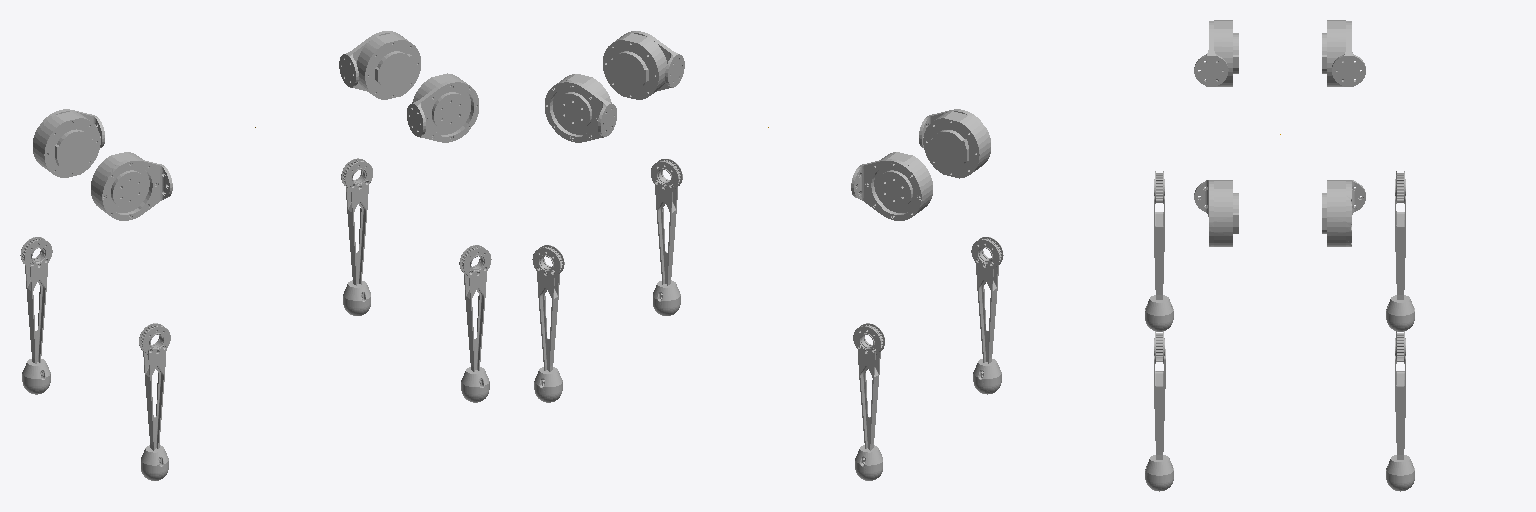
--- What the picture shows (computed from the rendered views, not written in the file) ---
The picture shows the robot from 3 angles, left to right: view 1: azimuth 30°, elevation 25°; view 2: azimuth 150°, elevation 25°; view 3: azimuth 270°, elevation 25°; orthographic projection.
Model dog with 19 links and 18 joints (12 revolute, 6 fixed), rooted at base, posed every joint at zero.
Visible links, largest first — view 1: FL_hip, RR_hip, FR_hip, RL_hip, RR_calf, RL_calf, FR_calf, FL_calf; view 2: RL_hip, FR_hip, RR_hip, FL_hip, FL_calf, RL_calf, RR_calf, FR_calf; view 3: FR_hip, FL_hip, RL_hip, RR_hip, FR_calf, RL_calf, RR_calf, FL_calf.
Boxes of the visible links, x1,y1,x2,y2 form: FL_hip: (339, 31, 420, 99); RR_hip: (91, 152, 172, 220); FR_hip: (407, 73, 478, 142); RL_hip: (33, 109, 104, 177); RR_calf: (139, 323, 170, 480); RL_calf: (20, 237, 52, 394); FR_calf: (459, 245, 491, 402); FL_calf: (341, 158, 372, 315); RL_hip: (851, 152, 932, 220); FR_hip: (603, 31, 684, 99); RR_hip: (919, 109, 990, 178); FL_hip: (545, 74, 616, 142); FL_calf: (532, 245, 564, 402); RL_calf: (853, 323, 884, 480); RR_calf: (971, 237, 1003, 394); FR_calf: (651, 159, 682, 315); FR_hip: (1194, 180, 1238, 246); FL_hip: (1322, 180, 1365, 246); RL_hip: (1322, 20, 1365, 86); RR_hip: (1194, 20, 1238, 86); FR_calf: (1145, 331, 1173, 491); RL_calf: (1386, 171, 1414, 331); RR_calf: (1145, 171, 1173, 331); FL_calf: (1386, 331, 1414, 491).
Size in the robot's own frame: 0.6457 by 0.3926 by 0.4922 metres.
8 mesh visuals loaded from 13 distinct referenced files (8 Collada DAE); not drawn: 5 (reference not matched to a file when rendering).

robot.urdf — dog:
<?xml version="1.0" encoding="utf-8"?>

<robot name="dog"> 

	<material name="black">
		<color rgba="0.0 0.0 0.0 1.0"/>
	</material>
	<material name="blue">
		<color rgba="0.0 0.0 0.8 1.0"/>
	</material>
	<material name="green">
		<color rgba="0.0 0.8 0.0 1.0"/>
	</material>
	<material name="grey">
		<color rgba="0.2 0.2 0.2 1.0"/>
	</material>
	<material name="silver">
		<color rgba="0.913725490196 0.913725490196 0.847058823529 1.0"/>
	</material>
	<material name="orange">
		<color rgba="1.0 0.423529411765 0.0392156862745 1.0"/>
	</material>
	<material name="brown">
		<color rgba="0.870588235294 0.811764705882 0.764705882353 1.0"/>
	</material>
	<material name="red">
		<color rgba="0.8 0.0 0.0 1.0"/>
	</material>
	<material name="white">
		<color rgba="1.0 1.0 1.0 1.0"/>
	</material>

	<!-- =================================================================================== -->
	<!-- ros_control plugin -->
	<!-- =================================================================================== -->
	<gazebo>
		<plugin filename="libgazebo_ros_control.so" name="gazebo_ros_control">
		<robotNamespace>/dog</robotNamespace>
		<robotSimType>gazebo_ros_control/DefaultRobotHWSim</robotSimType>
		</plugin>
	</gazebo>

	<!-- =================================================================================== -->
	<!-- Show the trajectory of trunk center. -->
	<!-- =================================================================================== -->
	<gazebo>
		<plugin filename="libLinkPlot3DPlugin.so" name="3dplotTrunk">
		<frequency>10</frequency>
		<plot>
			<link>base</link>
			<pose>0 0 0 0 0 0</pose>
			<material>Gazebo/Yellow</material>
		</plot>
		</plugin>
	</gazebo>

	<!-- =================================================================================== -->
	<gazebo>
		<plugin filename="libgazebo_ros_force.so" name="gazebo_ros_force">
		<bodyName>trunk</bodyName>
		<topicName>/apply_force/trunk</topicName>
		</plugin>
	</gazebo>
	
	<gazebo reference="imu_link">
		<gravity>true</gravity>
		<sensor name="imu_sensor" type="imu">
		<always_on>true</always_on>
		<update_rate>1000</update_rate>
		<visualize>true</visualize>
		<topic>__default_topic__</topic>
		<plugin filename="libgazebo_ros_imu_sensor.so" name="imu_plugin">
			<topicName>trunk_imu</topicName>
			<bodyName>imu_link</bodyName>
			<updateRateHZ>1000.0</updateRateHZ>
			<gaussianNoise>0.0</gaussianNoise>
			<xyzOffset>0 0 0</xyzOffset>
			<rpyOffset>0 0 0</rpyOffset>
			<frameName>imu_link</frameName>
		</plugin>
		<pose>0 0 0 0 0 0</pose>
		</sensor>
	</gazebo>
	
	<!-- =================================================================================== -->
	<!-- Foot contacts. -->
	<!-- =================================================================================== -->
	<gazebo reference="FR_calf">
		<sensor name="FR_foot_contact" type="contact">
		<update_rate>100</update_rate>
		<plugin filename="libunitreeFootContactPlugin.so" name="contactPlugin"/>
		<contact>
			<collision>FR_calf_fixed_joint_lump__FR_foot_collision_1</collision>
		</contact>
		</sensor>
	</gazebo>
	
	<gazebo reference="FL_calf">
		<sensor name="FL_foot_contact" type="contact">
		<update_rate>100</update_rate>
		<plugin filename="libunitreeFootContactPlugin.so" name="contactPlugin"/>
		<contact>
			<collision>FL_calf_fixed_joint_lump__FL_foot_collision_1</collision>
		</contact>
		</sensor>
	</gazebo>
	
	<gazebo reference="RR_calf">
		<sensor name="RR_foot_contact" type="contact">
		<update_rate>100</update_rate>
		<plugin filename="libunitreeFootContactPlugin.so" name="contactPlugin"/>
		<contact>
			<collision>RR_calf_fixed_joint_lump__RR_foot_collision_1</collision>
		</contact>
		</sensor>
	</gazebo>
	
	<gazebo reference="RL_calf">
		<sensor name="RL_foot_contact" type="contact">
		<update_rate>100</update_rate>
		<plugin filename="libunitreeFootContactPlugin.so" name="contactPlugin"/>
		<contact>
			<collision>RL_calf_fixed_joint_lump__RL_foot_collision_1</collision>
		</contact>
		</sensor>
	</gazebo>
	
	<!-- =================================================================================== -->
	<!-- Visualization of Foot contacts. -->
	<!-- =================================================================================== -->
	<gazebo reference="FR_foot">
		<visual>
		<plugin filename="libunitreeDrawForcePlugin.so" name="drawForcePlugin">
			<topicName>FR_foot_contact</topicName>
		</plugin>
		</visual>
	</gazebo>
	
	<gazebo reference="FL_foot">
		<visual>
		<plugin filename="libunitreeDrawForcePlugin.so" name="drawForcePlugin">
			<topicName>FL_foot_contact</topicName>
		</plugin>
		</visual>
	</gazebo>
	
	<gazebo reference="RR_foot">
		<visual>
		<plugin filename="libunitreeDrawForcePlugin.so" name="drawForcePlugin">
			<topicName>RR_foot_contact</topicName>
		</plugin>
		</visual>
	</gazebo>
	
	<gazebo reference="RL_foot">
		<visual>
		<plugin filename="libunitreeDrawForcePlugin.so" name="drawForcePlugin">
			<topicName>RL_foot_contact</topicName>
		</plugin>
		</visual>
	</gazebo>
	
	<!-- =================================================================================== -->
	<gazebo reference="base">
		<material>Gazebo/Green</material>
		<turnGravityOff>false</turnGravityOff>
	</gazebo>
	
	<gazebo reference="trunk">
		<mu1>0.2</mu1>
		<mu2>0.2</mu2>
		<kp value="1000000.0"/>
		<kd value="1.0"/>
	</gazebo>
	
	<gazebo reference="stick_link">
		<mu1>0.2</mu1>
		<mu2>0.2</mu2>
		<material>Gazebo/White</material>
	</gazebo>
	
	<gazebo reference="imu_link">
		<mu1>0.2</mu1>
		<mu2>0.2</mu2>
		<material>Gazebo/Red</material>
	</gazebo>
	
	<!-- FL leg -->
	<gazebo reference="FL_hip">
		<mu1>0.2</mu1>
		<mu2>0.2</mu2>
		<material>Gazebo/DarkGrey</material>
	</gazebo>
	
	<gazebo reference="FL_thigh">
		<mu1>0.2</mu1>
		<mu2>0.2</mu2>
		<self_collide>1</self_collide>
		<material>Gazebo/DarkGrey</material>
		<kp value="1000000.0"/>
		<kd value="1.0"/>
	</gazebo>
	
	<gazebo reference="FL_calf">
		<mu1>0.2</mu1>
		<mu2>0.2</mu2>
		<self_collide>1</self_collide>
	</gazebo>
	
	<gazebo reference="FL_foot">
		<mu1>1</mu1>
		<mu2>1</mu2>
		<self_collide>1</self_collide>
		<material>Gazebo/DarkGrey</material>
		<kp value="1000000.0"/>
		<kd value="1.0"/>
	</gazebo>
	
	<!-- FR leg -->
	<gazebo reference="FR_hip">
		<mu1>0.2</mu1>
		<mu2>0.2</mu2>
		<material>Gazebo/DarkGrey</material>
	</gazebo>
	
	<gazebo reference="FR_thigh">
		<mu1>0.2</mu1>
		<mu2>0.2</mu2>
		<self_collide>1</self_collide>
		<material>Gazebo/DarkGrey</material>
		<kp value="1000000.0"/>
		<kd value="1.0"/>
	</gazebo>
	
	<gazebo reference="FR_calf">
		<mu1>0.2</mu1>
		<mu2>0.2</mu2>
		<self_collide>1</self_collide>
	</gazebo>
	
	<gazebo reference="FR_foot">
		<mu1>1</mu1>
		<mu2>1</mu2>
		<self_collide>1</self_collide>
		<material>Gazebo/DarkGrey</material>
		<kp value="1000000.0"/>
		<kd value="1.0"/>
	</gazebo>
	
	<!-- RL leg -->
	<gazebo reference="RL_hip">
		<mu1>0.2</mu1>
		<mu2>0.2</mu2>
		<material>Gazebo/DarkGrey</material>
	</gazebo>
	
	<gazebo reference="RL_thigh">
		<mu1>0.2</mu1>
		<mu2>0.2</mu2>
		<self_collide>1</self_collide>
		<material>Gazebo/DarkGrey</material>
		<kp value="1000000.0"/>
		<kd value="1.0"/>
	</gazebo>
	
	<gazebo reference="RL_calf">
		<mu1>0.2</mu1>
		<mu2>0.2</mu2>
		<self_collide>1</self_collide>
	</gazebo>
	
	<gazebo reference="RL_foot">
		<mu1>1</mu1>
		<mu2>1</mu2>
		<self_collide>1</self_collide>
		<material>Gazebo/DarkGrey</material>
		<kp value="1000000.0"/>
		<kd value="1.0"/>
	</gazebo>
	
	<!-- RR leg -->
	<gazebo reference="RR_hip">
		<mu1>0.2</mu1>
		<mu2>0.2</mu2>
		<material>Gazebo/DarkGrey</material>
	</gazebo>
	
	<gazebo reference="RR_thigh">
		<mu1>0.2</mu1>
		<mu2>0.2</mu2>
		<self_collide>1</self_collide>
		<material>Gazebo/DarkGrey</material>
		<kp value="1000000.0"/>
		<kd value="1.0"/>
	</gazebo>
	
	<gazebo reference="RR_calf">
		<mu1>0.2</mu1>
		<mu2>0.2</mu2>
		<self_collide>1</self_collide>
	</gazebo>
	
	<gazebo reference="RR_foot">
		<mu1>1</mu1>
		<mu2>1</mu2>
		<self_collide>1</self_collide>
		<material>Gazebo/DarkGrey</material>
		<kp value="1000000.0"/>
		<kd value="1.0"/>
	</gazebo>
	<!-- =================================================================================== -->

	<!-- =================================================================================== -->
	<link 
		name="base">
		<visual>
			<origin 
				rpy="0 0 0" 
				xyz="0 0 0"/>
			<geometry>
				<box 
				size="0.001 0.001 0.001"/>
			</geometry>
		</visual>
	</link>
	
	<joint 
		name="floating_base" 
		type="fixed">
		<origin 
			rpy="0 0 0" 
			xyz="0 0 0"/>
		<parent 
			link="base"/>
		<child 
			link="trunk"/>
	</joint>
	
	<link
		name="trunk">
		<inertial>
			<origin
				xyz="0 0 0"
				rpy="0 0 0" />
			<mass
				value="5.369" />
			<inertia
				ixx="0.014018"
				ixy="-9.8764E-10"
				ixz="2.189E-06"
				iyy="0.022916"
				iyz="-1.0695E-05"
				izz="0.031536" />
		</inertial>
		<visual>
			<origin
				xyz="0 0 0"
				rpy="0 0 0" />
			<geometry>
				<mesh
				filename="package://dog/meshes/trunk.dae" />
			</geometry>
			<material
				name="">
				<color
				rgba="0.75294 0.75294 0.75294 1" />
			</material>
		</visual>
		<collision>
			<origin
				xyz="0 0 0"
				rpy="0 0 0" />
			<geometry>
				<box size="0.425 0.3 0.125"/>
			</geometry>
		</collision>
	</link>
	<!-- =================================================================================== -->
	
	<!-- =================================================================================== -->
	<joint name="imu_joint" type="fixed">
		<parent link="trunk"/>
		<child link="imu_link"/>
		<origin rpy="0 0 0" xyz="0 0 0"/>
	</joint>
	
	<link name="imu_link">
		<inertial>
			<mass value="0.001"/>
			<origin rpy="0 0 0" xyz="0 0 0"/>
			<inertia ixx="0.0001" ixy="0" ixz="0" iyy="0.0001" iyz="0" izz="0.0001"/>
		</inertial>
		<visual>
			<origin rpy="0 0 0" xyz="0 0 0"/>
			<geometry>
				<box size="0.001 0.001 0.001"/>
			</geometry>
			<material name="red"/>
		</visual>
		<collision>
			<origin rpy="0 0 0" xyz="0 0 0"/>
			<geometry>
				<box size=".001 .001 .001"/>
			</geometry>
		</collision>
	</link>

	<!-- =================================================================================== -->
	<!-- FL leg -->
	<!-- =================================================================================== -->
	<joint
		name="FL_hip_joint"
		type="revolute">
		<origin
			xyz="0.27491 0.099829 0.0023126"
			rpy="0 0 0" />
		<parent
			link="trunk" />
		<child
			link="FL_hip" />
		<axis
			xyz="1 0 0" />
		<limit
			lower="-3.1416"
			upper="3.1416"
			effort="33.5"
			velocity="21" />
		<dynamics
			damping="0.01"
			friction="0.2" />
	</joint>
	
	<link
		name="FL_hip">
		<inertial>
			<origin
        		xyz="-0.00692304963835766 -0.0130799503639591 8.77287418627609E-06"
				rpy="0 0 0" />
			<mass
				value="0.337524542203421" />
			<inertia
				ixx="0.000215254092407494"
				ixy="2.15638092567625E-07"
				ixz="-6.84399658609385E-08"
				iyy="0.000431326436958549"
				iyz="5.16536960133808E-08"
				izz="0.00027557090454781" />
		</inertial>
		<visual>
			<origin
				xyz="0 0 0"
				rpy="0 0 0" />
			<geometry>
				<mesh
				filename="package://dog/meshes/FL_hip.dae" />
			</geometry>
				<material
					name="">
					<color
					rgba="0.752941176470588 0.752941176470588 0.752941176470588 1" />
				</material>
		</visual>
		<collision>
			<origin
				xyz="0 0 0"
				rpy="1.57079632679 0 0" />
			<geometry>
				<cylinder length="0.0437" radius="0.04825"/>
			</geometry>
		</collision>
	</link>
	
	<joint
		name="FL_thigh_joint"
		type="revolute">
		<origin
			xyz="0 0.07555 0"
			rpy="0 0 0" />
		<parent
			link="FL_hip" />
		<child
			link="FL_thigh" />
		<axis
			xyz="0 1 0" />
		<limit
			lower="-3.1416"
			upper="3.1416"
			effort="33.5"
			velocity="21" />
		<dynamics
			damping="0.01"
			friction="0.2" />
	</joint>
	
	<link
		name="FL_thigh">
		<inertial>
			<origin
				xyz="-0.00162647906680141 -0.0211042231509579 -0.0414216512995833"
				rpy="0 0 0" />
			<mass
				value="0.752071036497917" />
			<inertia
				ixx="0.00115368399686359"
				ixy="-5.15161781505904E-08"
				ixz="3.94366142837055E-06"
				iyy="0.00143053814691974"
				iyz="2.21188881777564E-06"
				izz="0.000359763371789606" />
		</inertial>
		<visual>
			<origin
				xyz="0 0 0"
				rpy="0 0 0" />
			<geometry>
				<mesh
				filename="package://dog/meshes/FL_thigh.dae" />
			</geometry>
			<material
				name="">
				<color
				rgba="0.752941176470588 0.752941176470588 0.752941176470588 1" />
			</material>
		</visual>
		<collision>
			<origin
				xyz="0 0 -0.1075"
				rpy="0 1.57079632679 0" />
			<geometry>
				<box size="0.281 0.084 0.04825"/>
			</geometry>
		</collision>
	</link>
	
	<joint
		name="FL_calf_joint"
		type="revolute">
		<origin
			xyz="0 -0.00025 -0.215"
			rpy="0 0 0" />
		<parent
			link="FL_thigh" />
		<child
			link="FL_calf" />
		<axis
			xyz="0 1 0" />
		<limit
			lower="-3.1416"
			upper="3.1416"
			effort="33.5"
			velocity="21" />
		<dynamics
			damping="0.01"
			friction="0.2" />
	</joint>

	<link
		name="FL_calf">
		<inertial>
			<origin
				xyz="-3.94060146965969E-06 -0.000200469779456536 -0.112543621491278"
				rpy="0 0 0" />
			<mass
				value="0.124258894329163" />
			<inertia
				ixx="0.00013902953204446"
				ixy="1.33749908628396E-12"
				ixz="-2.74121697814619E-10"
				iyy="0.000145283524562499"
				iyz="4.05270232077448E-07"
				izz="1.81938767558011E-05" />
		</inertial>
		<visual>
			<origin
				xyz="0 0 0"
				rpy="0 0 0" />
			<geometry>
				<mesh
				filename="package://dog/meshes/FL_calf.dae" />
			</geometry>
			<material
				name="">
				<color
				rgba="0.752941176470588 0.752941176470588 0.752941176470588 1" />
			</material>
		</visual>
		<collision>
			<origin
				xyz="0 0 0"
				rpy="0 0 0" />
			<geometry>
				<mesh
				filename="package://dog/meshes/FL_calf.dae" />
			</geometry>
		</collision>
	</link>

	<joint name="FL_foot_fixed" type="fixed">
		<origin rpy="0 0 0" xyz="0 0 -0.2172"/>
		<parent link="FL_calf"/>
		<child link="FL_foot"/>
	</joint>
	
	<link name="FL_foot">
		<visual>
			<origin rpy="0 0 0" xyz="0 0 0"/>
			<geometry>
				<sphere radius="0.01"/>
			</geometry>
			<material name="orange"/>
		</visual>
		<collision>
			<origin rpy="0 0 0" xyz="0 0 0"/>
			<geometry>
				<sphere radius="0.01"/>
			</geometry>
		</collision>
		<inertial>
			<mass value="0.06"/>
			<inertia ixx="9.6e-06" ixy="0.0" ixz="0.0" iyy="9.6e-06" iyz="0.0" izz="9.6e-06"/>
		</inertial>
	</link>

	<transmission name="FL_hip_tran">
		<type>transmission_interface/SimpleTransmission</type>
		<joint name="FL_hip_joint">
			<hardwareInterface>hardware_interface/EffortJointInterface</hardwareInterface>
		</joint>
		<actuator name="FL_hip_motor">
			<hardwareInterface>hardware_interface/EffortJointInterface</hardwareInterface>
			<mechanicalReduction>1</mechanicalReduction>
		</actuator>
	</transmission>
	
	<transmission name="FL_thigh_tran">
		<type>transmission_interface/SimpleTransmission</type>
		<joint name="FL_thigh_joint">
			<hardwareInterface>hardware_interface/EffortJointInterface</hardwareInterface>
		</joint>
		<actuator name="FL_thigh_motor">
			<hardwareInterface>hardware_interface/EffortJointInterface</hardwareInterface>
			<mechanicalReduction>1</mechanicalReduction>
		</actuator>
	</transmission>
	
	<transmission name="FL_calf_tran">
		<type>transmission_interface/SimpleTransmission</type>
		<joint name="FL_calf_joint">
			<hardwareInterface>hardware_interface/EffortJointInterface</hardwareInterface>
		</joint>
		<actuator name="FL_calf_motor">
			<hardwareInterface>hardware_interface/EffortJointInterface</hardwareInterface>
			<mechanicalReduction>1</mechanicalReduction>
		</actuator>
	</transmission>

	<!-- =================================================================================== -->  
	<!-- FR leg -->
	<!-- =================================================================================== -->
	<joint
		name="FR_hip_joint"
		type="revolute">
		<origin
			xyz="0.27491 -0.10017 0.0023126"
			rpy="0 0 0" />
		<parent
			link="trunk" />
		<child
			link="FR_hip" />
		<axis
			xyz="1 0 0" />
		<limit
			lower="-3.1416"
			upper="3.1416"
			effort="33.5"
			velocity="21" />
		<dynamics
			damping="0.01"
			friction="0.2" />
	</joint>

	<link
		name="FR_hip">
		<inertial>
			<origin
				xyz="-0.0069230496383576 0.0130799503639589 -8.77287418629647E-06"
				rpy="0 0 0" />
			<mass
				value="0.337524542203421" />
			<inertia
				ixx="0.000215254092407494"
				ixy="2.15638092567625E-07"
				ixz="-6.84399658609385E-08"
				iyy="0.000431326436958549"
				iyz="5.16536960133808E-08"
				izz="0.00027557090454781" />
		</inertial>
		<visual>
			<origin
				xyz="0 0 0"
				rpy="0 0 0" />
			<geometry>
				<mesh
				filename="package://dog/meshes/FR_hip.dae" />
			</geometry>
			<material
				name="">
				<color
				rgba="0.752941176470588 0.752941176470588 0.752941176470588 1" />
			</material>
		</visual>
		<collision>
			<origin
				xyz="0 0 0"
				rpy="1.57079632679 0 0" />
			<geometry>
				<cylinder length="0.0437" radius="0.04825"/>
			</geometry>
		</collision>
	</link>

	<joint
		name="FR_thigh_joint"
		type="revolute">
		<origin
			xyz="0 -0.07555 0"
			rpy="0 0 0" />
		<parent
			link="FR_hip" />
		<child
			link="FR_thigh" />
		<axis
			xyz="0 1 0" />
		<limit
			lower="-3.1416"
			upper="3.1416"
			effort="33.5"
			velocity="21" />
		<dynamics
			damping="0.01"
			friction="0.2" />
	</joint>
	
	<link
		name="FR_thigh">
		<inertial>
			<origin
				xyz="-0.00170171026708282 0.0211066364397727 -0.0414030033466159"
				rpy="0 0 0" />
			<mass
				value="0.752071036497917" />
			<inertia
				ixx="0.00115368399686359"
				ixy="-5.15161781505904E-08"
				ixz="3.94366142837055E-06"
				iyy="0.00143053814691974"
				iyz="2.21188881777564E-06"
				izz="0.000359763371789606" />
		</inertial>
		<visual>
			<origin
				xyz="0 0 0"
				rpy="0 0 0" />
			<geometry>
				<mesh
				filename="package://dog/meshes/FR_thigh.dae" />
			</geometry>
			<material
				name="">
				<color
				rgba="0.752941176470588 0.752941176470588 0.752941176470588 1" />
			</material>
		</visual>
		<collision>
			<origin
				xyz="0 0 -0.1075"
				rpy="0 1.57079632679 0" />
			<geometry>
				<box size="0.281 0.084 0.04825"/>
			</geometry>
		</collision>
	</link>

	<joint
		name="FR_calf_joint"
		type="revolute">
		<origin
			xyz="0 0.00025 -0.215"
			rpy="0 0 0" />
		<parent
			link="FR_thigh" />
		<child
			link="FR_calf" />
		<axis
			xyz="0 1 0" />
		<limit
			lower="-3.1416"
			upper="3.1416"
			effort="33.5"
			velocity="21" />
		<dynamics
			damping="0.01"
			friction="0.2" />
	</joint>

	<link
		name="FR_calf">
		<inertial>
			<origin
				xyz="3.94060146979847E-06 0.000200469779456564 -0.112543621491278"
				rpy="0 0 0" />
			<mass
				value="0.124258894329163" />
			<inertia
				ixx="0.00013902953204446"
				ixy="1.33749908628396E-12"
				ixz="-2.74121697814619E-10"
				iyy="0.000145283524562499"
				iyz="4.05270232077448E-07"
				izz="1.81938767558011E-05" />
		</inertial>
		<visual>
			<origin
				xyz="0 0 0"
				rpy="0 0 0" />
			<geometry>
				<mesh
				filename="package://dog/meshes/FR_calf.dae" />
			</geometry>
			<material
				name="">
				<color
				rgba="0.752941176470588 0.752941176470588 0.752941176470588 1" />
			</material>
		</visual>
		<collision>
			<origin
				xyz="0 0 0"
				rpy="0 0 0" />
			<geometry>
				<mesh
				filename="package://dog/meshes/FR_calf.dae" />
			</geometry>
		</collision>
	</link>

	<joint name="FR_foot_fixed" type="fixed">
		<origin rpy="0 0 0" xyz="0 0 -0.2172"/>
		<parent link="FR_calf"/>
		<child link="FR_foot"/>
	</joint>
	
	<link name="FR_foot">
		<visual>
			<origin rpy="0 0 0" xyz="0 0 0"/>
			<geometry>
				<sphere radius="0.01"/>
			</geometry>
			<material name="orange"/>
		</visual>
		<collision>
			<origin rpy="0 0 0" xyz="0 0 0"/>
			<geometry>
				<sphere radius="0.01"/>
			</geometry>
		</collision>
		<inertial>
			<mass value="0.06"/>
			<inertia ixx="9.6e-06" ixy="0.0" ixz="0.0" iyy="9.6e-06" iyz="0.0" izz="9.6e-06"/>
		</inertial>
	</link>

	<transmission name="FR_hip_tran">
		<type>transmission_interface/SimpleTransmission</type>
		<joint name="FR_hip_joint">
			<hardwareInterface>hardware_interface/EffortJointInterface</hardwareInterface>
		</joint>
		<actuator name="FR_hip_motor">
			<hardwareInterface>hardware_interface/EffortJointInterface</hardwareInterface>
			<mechanicalReduction>1</mechanicalReduction>
		</actuator>
	</transmission>
	
	<transmission name="FR_thigh_tran">
		<type>transmission_interface/SimpleTransmission</type>
		<joint name="FR_thigh_joint">
			<hardwareInterface>hardware_interface/EffortJointInterface</hardwareInterface>
		</joint>
		<actuator name="FR_thigh_motor">
			<hardwareInterface>hardware_interface/EffortJointInterface</hardwareInterface>
			<mechanicalReduction>1</mechanicalReduction>
		</actuator>
	</transmission>
	
	<transmission name="FR_calf_tran">
		<type>transmission_interface/SimpleTransmission</type>
		<joint name="FR_calf_joint">
			<hardwareInterface>hardware_interface/EffortJointInterface</hardwareInterface>
		</joint>
		<actuator name="FR_calf_motor">
			<hardwareInterface>hardware_interface/EffortJointInterface</hardwareInterface>
			<mechanicalReduction>1</mechanicalReduction>
		</actuator>
	</transmission>

	<!-- =================================================================================== -->
	<!-- RL leg -->
	<!-- =================================================================================== -->  
	<joint
		name="RL_hip_joint"
		type="revolute">
		<origin
			xyz="-0.27429 0.099829 0.0023126"
			rpy="0 0 0" />
		<parent
			link="trunk" />
		<child
			link="RL_hip" />
		<axis
			xyz="1 0 0" />
		<limit
			lower="-3.1416"
			upper="3.1416"
			effort="33.5"
			velocity="21" />
		<dynamics
			damping="0.01"
			friction="0.2" />
	</joint>
	
	<link
		name="RL_hip">
		<inertial>
			<origin
				xyz="0.00692304963835755 -0.0130799503639591 -8.77287418624573E-06"
				rpy="0 0 0" />
			<mass
				value="0.337524542203421" />
			<inertia
				ixx="0.000215254092407494"
				ixy="2.15638092567625E-07"
				ixz="-6.84399658609385E-08"
				iyy="0.000431326436958549"
				iyz="5.16536960133808E-08"
				izz="0.00027557090454781" />
		</inertial>
		<visual>
			<origin
				xyz="0 0 0"
				rpy="0 0 0" />
			<geometry>
				<mesh
				filename="package://dog/meshes/RL_hip.dae" />
			</geometry>
			<material
				name="">
				<color
				rgba="0.752941176470588 0.752941176470588 0.752941176470588 1" />
			</material>
		</visual>
		<collision>
			<origin
				xyz="0 0 0"
				rpy="1.57079632679 0 0" />
			<geometry>
				<cylinder length="0.0437" radius="0.04825"/>
			</geometry>
		</collision>
	</link>
	
	<joint
		name="RL_thigh_joint"
		type="revolute">
		<origin
			xyz="0 0.07555 0"
			rpy="0 0 0" />
		<parent
			link="RL_hip" />
		<child
			link="RL_thigh" />
		<axis
			xyz="0 1 0" />
		<limit
			lower="-3.1416"
			upper="3.1416"
			effort="33.5"
			velocity="21" />
		<dynamics
			damping="0.01"
			friction="0.2" />
	</joint>

	<link
		name="RL_thigh">
		<inertial>
			<origin
				xyz="-0.00162647906680125 -0.021104223150958 -0.0414216512995832"
				rpy="0 0 0" />
			<mass
				value="0.752071036497917" />
			<inertia
				ixx="0.00115368399686359"
				ixy="-5.15161781505904E-08"
				ixz="3.94366142837055E-06"
				iyy="0.00143053814691974"
				iyz="2.21188881777564E-06"
				izz="0.000359763371789606" />
		</inertial>
		<visual>
			<origin
				xyz="0 0 0"
				rpy="0 0 0" />
			<geometry>
				<mesh
				filename="package://dog/meshes/RL_thigh.dae" />
			</geometry>
			<material
				name="">
				<color
				rgba="0.752941176470588 0.752941176470588 0.752941176470588 1" />
			</material>
		</visual>
		<collision>
			<origin
				xyz="0 0 -0.1075"
				rpy="0 1.57079632679 0" />
			<geometry>
				<box size="0.281 0.084 0.04825"/>
			</geometry>
		</collision>
	</link>
	
	<joint
		name="RL_calf_joint"
		type="revolute">
		<origin
			xyz="0 -0.00025 -0.215"
			rpy="0 0 0" />
		<parent
			link="RL_thigh" />
		<child
			link="RL_calf" />
		<axis
			xyz="0 1 0" />
		<limit
			lower="-3.1416"
			upper="3.1416"
			effort="33.5"
			velocity="21" />
		<dynamics
			damping="0.01"
			friction="0.2" />
	</joint>

	<link
		name="RL_calf">
		<inertial>
			<origin
				xyz="-3.9406014697152E-06 -0.000200469779456564 -0.112543621491278"
				rpy="0 0 0" />
			<mass
				value="0.124258894329163" />
			<inertia
				ixx="0.00013902953204446"
				ixy="1.33749908628396E-12"
				ixz="-2.74121697814619E-10"
				iyy="0.000145283524562499"
				iyz="4.05270232077448E-07"
				izz="1.81938767558011E-05" />
		</inertial>
		<visual>
			<origin
				xyz="0 0 0"
				rpy="0 0 0" />
			<geometry>
				<mesh
				filename="package://dog/meshes/RL_calf.dae" />
			</geometry>
			<material
				name="">
				<color
				rgba="0.752941176470588 0.752941176470588 0.752941176470588 1" />
			</material>
		</visual>
		<collision>
			<origin
				xyz="0 0 0"
				rpy="0 0 0" />
			<geometry>
				<mesh
				filename="package://dog/meshes/RL_calf.dae" />
			</geometry>
		</collision>
	</link>

	<joint name="RL_foot_fixed" type="fixed">
		<origin rpy="0 0 0" xyz="0 0 -0.2172"/>
		<parent link="RL_calf"/>
		<child link="RL_foot"/>
	</joint>

	<link name="RL_foot">
		<visual>
			<origin rpy="0 0 0" xyz="0 0 0"/>
			<geometry>
				<sphere radius="0.01"/>
			</geometry>
			<material name="orange"/>
		</visual>
		<collision>
			<origin rpy="0 0 0" xyz="0 0 0"/>
			<geometry>
				<sphere radius="0.01"/>
			</geometry>
		</collision>
		<inertial>
			<mass value="0.06"/>
			<inertia ixx="9.6e-06" ixy="0.0" ixz="0.0" iyy="9.6e-06" iyz="0.0" izz="9.6e-06"/>
		</inertial>
	</link>

	<transmission name="RL_hip_tran">
		<type>transmission_interface/SimpleTransmission</type>
		<joint name="RL_hip_joint">
			<hardwareInterface>hardware_interface/EffortJointInterface</hardwareInterface>
		</joint>
		<actuator name="RL_hip_motor">
			<hardwareInterface>hardware_interface/EffortJointInterface</hardwareInterface>
			<mechanicalReduction>1</mechanicalReduction>
		</actuator>
	</transmission>
	
	<transmission name="RL_thigh_tran">
		<type>transmission_interface/SimpleTransmission</type>
		<joint name="RL_thigh_joint">
			<hardwareInterface>hardware_interface/EffortJointInterface</hardwareInterface>
		</joint>
		<actuator name="RL_thigh_motor">
			<hardwareInterface>hardware_interface/EffortJointInterface</hardwareInterface>
			<mechanicalReduction>1</mechanicalReduction>
		</actuator>
	</transmission>
	
	<transmission name="RL_calf_tran">
		<type>transmission_interface/SimpleTransmission</type>
		<joint name="RL_calf_joint">
			<hardwareInterface>hardware_interface/EffortJointInterface</hardwareInterface>
		</joint>
		<actuator name="RL_calf_motor">
			<hardwareInterface>hardware_interface/EffortJointInterface</hardwareInterface>
			<mechanicalReduction>1</mechanicalReduction>
		</actuator>
	</transmission>

	<!-- =================================================================================== -->
	<!-- RR leg -->
	<!-- =================================================================================== -->
	<joint
		name="RR_hip_joint"
		type="revolute">
		<origin
			xyz="-0.27429 -0.10017 0.0023126"
			rpy="0 0 0" />
		<parent
			link="trunk" />
		<child
			link="RR_hip" />
		<axis
			xyz="1 0 0" />
		<limit
			lower="-3.1416"
			upper="3.1416"
			effort="33.5"
			velocity="21" />
		<dynamics
			damping="0.01"
			friction="0.2" />
	</joint>
	
	<link
		name="RR_hip">
		<inertial>
			<origin
				xyz="0.00692304963835749 0.0130799503639589 8.77287418626221E-06"
				rpy="0 0 0" />
			<mass
				value="0.337524542203421" />
			<inertia
				ixx="0.000215254092407494"
				ixy="2.15638092567625E-07"
				ixz="-6.84399658609385E-08"
				iyy="0.000431326436958549"
				iyz="5.16536960133808E-08"
				izz="0.00027557090454781" />
		</inertial>
		<visual>
			<origin
				xyz="0 0 0"
				rpy="0 0 0" />
			<geometry>
				<mesh
				filename="package://dog/meshes/RR_hip.dae" />
			</geometry>
			<material
				name="">
				<color
				rgba="0.752941176470588 0.752941176470588 0.752941176470588 1" />
			</material>
		</visual>
		<collision>
			<origin
				xyz="0 0 0"
				rpy="1.57079632679 0 0" />
			<geometry>
				<cylinder length="0.0437" radius="0.04825"/>
			</geometry>
		</collision>
	</link>
	
	<joint
		name="RR_thigh_joint"
		type="revolute">
		<origin
			xyz="0 -0.07555 0"
			rpy="0 0 0" />
		<parent
			link="RR_hip" />
		<child
			link="RR_thigh" />
		<axis
			xyz="0 1 0" />
		<limit
			lower="-3.1416"
			upper="3.1416"
			effort="33.5"
			velocity="21" />
		<dynamics
			damping="0.01"
			friction="0.2" />
	</joint>
	
	<link
		name="RR_thigh">
		<inertial>
			<origin
				xyz="-0.00170171026708305 0.0211066364397727 -0.0414030033466158"
				rpy="0 0 0" />
			<mass
				value="0.752071036497917" />
			<inertia
				ixx="0.00115368399686359"
				ixy="-5.15161781505904E-08"
				ixz="3.94366142837055E-06"
				iyy="0.00143053814691974"
				iyz="2.21188881777564E-06"
				izz="0.000359763371789606" />
		</inertial>
		<visual>
			<origin
				xyz="0 0 0"
				rpy="0 0 0" />
			<geometry>
				<mesh
				filename="package://dog/meshes/RR_thigh.dae" />
			</geometry>
			<material
				name="">
				<color
				rgba="0.752941176470588 0.752941176470588 0.752941176470588 1" />
			</material>
		</visual>
			<collision>
			<origin
				xyz="0 0 -0.1075"
				rpy="0 1.57079632679 0" />
			<geometry>
				<box size="0.281 0.084 0.04825"/>
			</geometry>
		</collision>
	</link>
	
	<joint
		name="RR_calf_joint"
		type="revolute">
		<origin
			xyz="0 0.00025 -0.215"
			rpy="0 0 0" />
		<parent
			link="RR_thigh" />
		<child
			link="RR_calf" />
		<axis
			xyz="0 1 0" />
		<limit
			lower="-3.1416"
			upper="3.1416"
			effort="33.5"
			velocity="21" />
		<dynamics
			damping="0.01"
			friction="0.2" />
	</joint>

	<link
		name="RR_calf">
		<inertial>
			<origin
				xyz="-3.94060146968744E-06 -0.000200469779456591 -0.112543621491278"
				rpy="0 0 0" />
			<mass
				value="0.124258894329163" />
			<inertia
				ixx="0.00013902953204446"
				ixy="1.33749908628396E-12"
				ixz="-2.74121697814619E-10"
				iyy="0.000145283524562499"
				iyz="4.05270232077448E-07"
				izz="1.81938767558011E-05" />
		</inertial>
		<visual>
			<origin
				xyz="0 0 0"
				rpy="0 0 0" />
			<geometry>
				<mesh
				filename="package://dog/meshes/RR_calf.dae" />
			</geometry>
			<material
				name="">
				<color
				rgba="0.752941176470588 0.752941176470588 0.752941176470588 1" />
			</material>
		</visual>
		<collision>
			<origin
				xyz="0 0 0"
				rpy="0 0 0" />
			<geometry>
				<mesh
				filename="package://dog/meshes/RR_calf.dae" />
			</geometry>
		</collision>
	</link>

	<joint name="RR_foot_fixed" type="fixed">
		<origin rpy="0 0 0" xyz="0 0 -0.2172"/>
		<parent link="RR_calf"/>
		<child link="RR_foot"/>
	</joint>
	
	<link name="RR_foot">
		<visual>
			<origin rpy="0 0 0" xyz="0 0 0"/>
			<geometry>
				<sphere radius="0.01"/>
			</geometry>
			<material name="orange"/>
		</visual>
		<collision>
			<origin rpy="0 0 0" xyz="0 0 0"/>
			<geometry>
				<sphere radius="0.01"/>
			</geometry>
		</collision>
		<inertial>
			<mass value="0.06"/>
			<inertia ixx="9.6e-06" ixy="0.0" ixz="0.0" iyy="9.6e-06" iyz="0.0" izz="9.6e-06"/>
		</inertial>
	</link>

	<transmission name="RR_hip_tran">
		<type>transmission_interface/SimpleTransmission</type>
		<joint name="RR_hip_joint">
			<hardwareInterface>hardware_interface/EffortJointInterface</hardwareInterface>
		</joint>
		<actuator name="RR_hip_motor">
			<hardwareInterface>hardware_interface/EffortJointInterface</hardwareInterface>
			<mechanicalReduction>1</mechanicalReduction>
		</actuator>
	</transmission>
	
	<transmission name="RR_thigh_tran">
		<type>transmission_interface/SimpleTransmission</type>
		<joint name="RR_thigh_joint">
			<hardwareInterface>hardware_interface/EffortJointInterface</hardwareInterface>
		</joint>
		<actuator name="RR_thigh_motor">
			<hardwareInterface>hardware_interface/EffortJointInterface</hardwareInterface>
			<mechanicalReduction>1</mechanicalReduction>
		</actuator>
	</transmission>
	
	<transmission name="RR_calf_tran">
		<type>transmission_interface/SimpleTransmission</type>
		<joint name="RR_calf_joint">
			<hardwareInterface>hardware_interface/EffortJointInterface</hardwareInterface>
		</joint>
		<actuator name="RR_calf_motor">
			<hardwareInterface>hardware_interface/EffortJointInterface</hardwareInterface>
			<mechanicalReduction>1</mechanicalReduction>
		</actuator>
	</transmission>
</robot>
